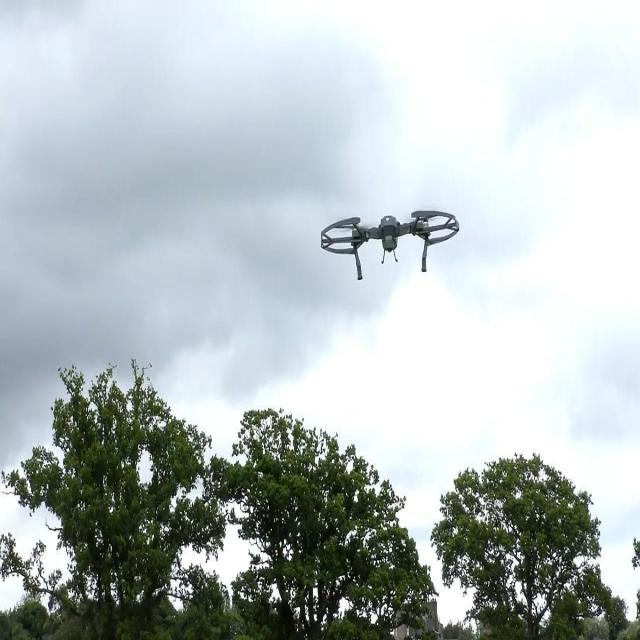UAV: (321, 210, 459, 282)
